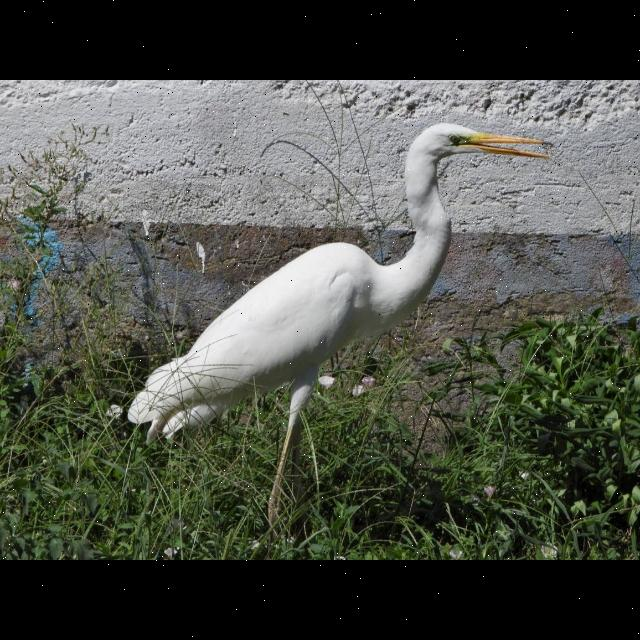egret: (128, 122, 550, 494)
